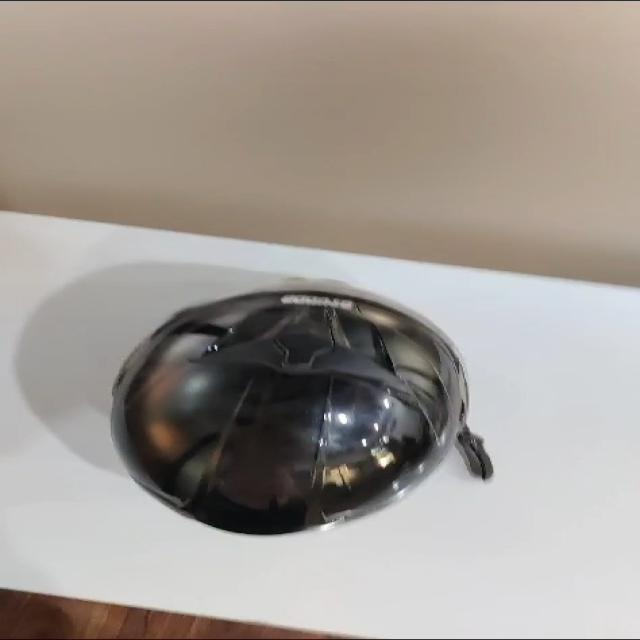helmet: (111, 288, 461, 548)
